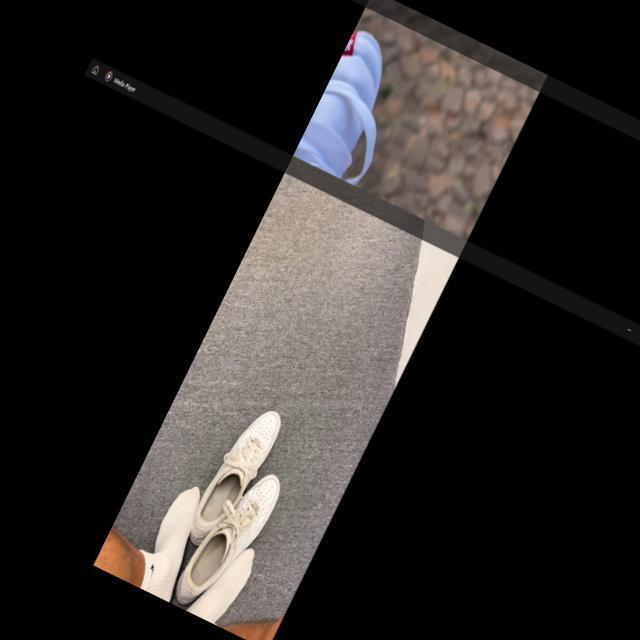nike original air force: (168, 457, 286, 622), (180, 398, 286, 556)
